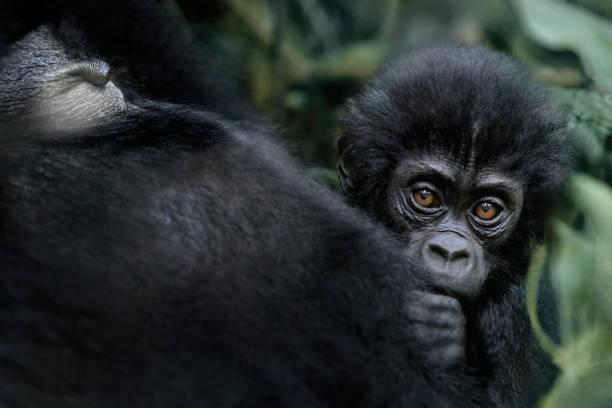goriile_montagne: (290, 35, 609, 408)
